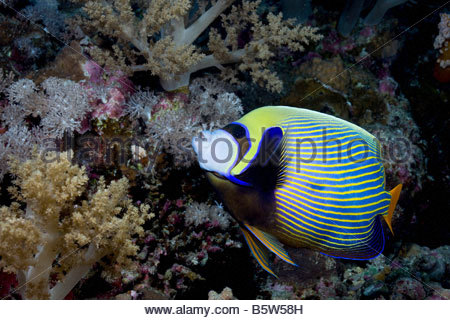Pomacanthus_imperator: (189, 99, 411, 277)
